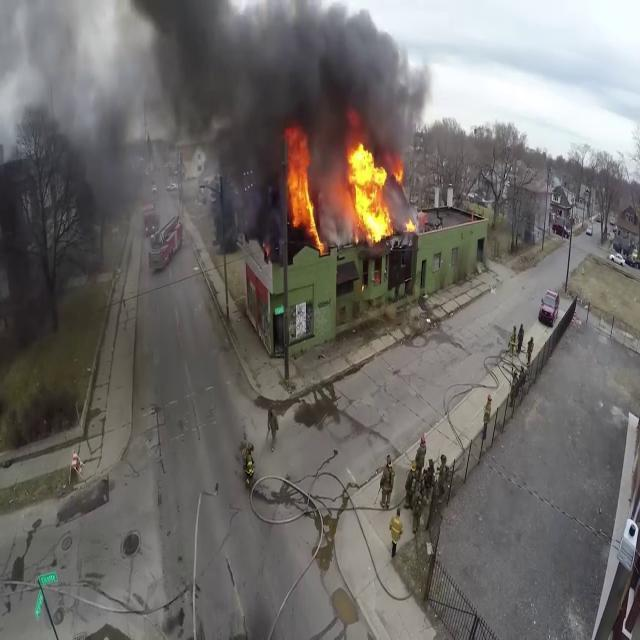Fire: (342, 136, 402, 246), (280, 122, 322, 248)
Smoke: (0, 0, 440, 231)
